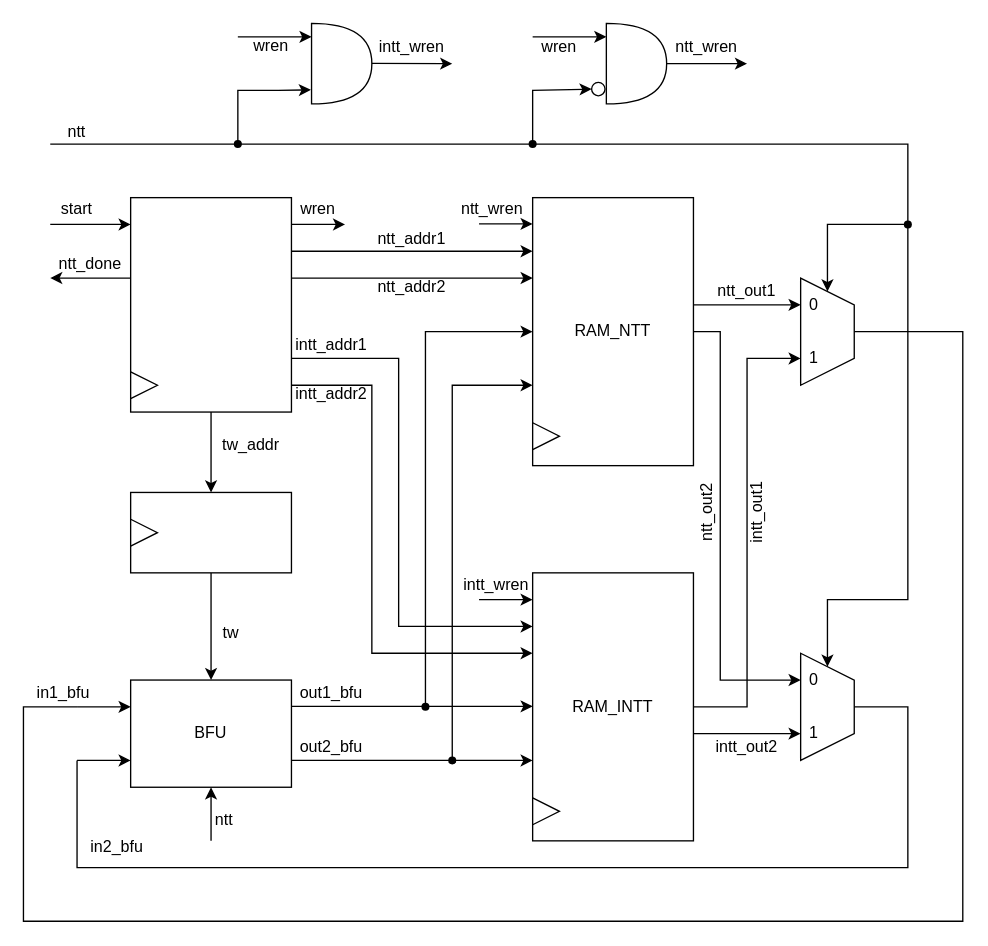
This 988x946 diagram has some shape labels left out. The centre of each missing label's shape, as x and y in pixels:
"AGU" goes at (210,304).
"TW FAC" goes at (210,532).
